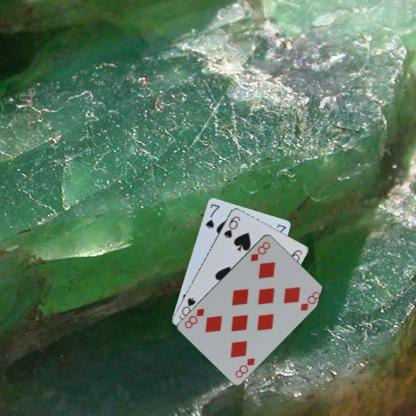6s: (221, 213, 242, 239)
7s: (203, 201, 221, 230)
8d: (232, 355, 257, 379), (248, 239, 271, 262)
